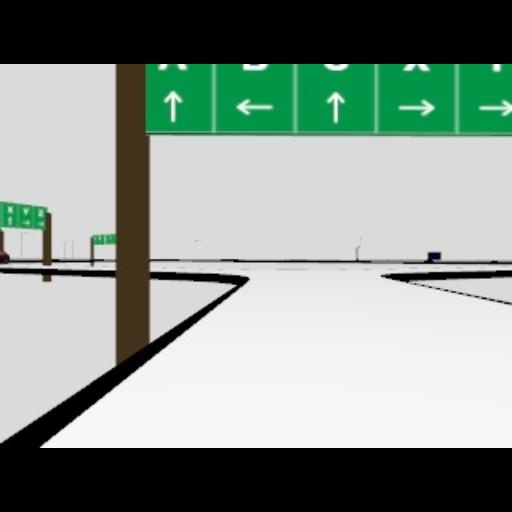A: (156, 64, 186, 70)
B: (241, 64, 267, 70)
C: (323, 64, 349, 70)
Left: (232, 98, 274, 114)
Right: (396, 98, 434, 116), (478, 99, 510, 117)
Straight: (165, 88, 183, 124), (328, 88, 344, 124)
X: (402, 64, 430, 70)
Y: (491, 64, 501, 72)
